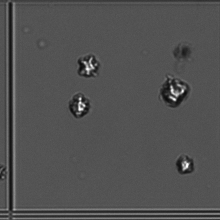Dead Cell: (171, 41, 199, 64)
Living Cell: (158, 73, 195, 108), (68, 91, 96, 122), (76, 52, 104, 81), (174, 152, 200, 178)
